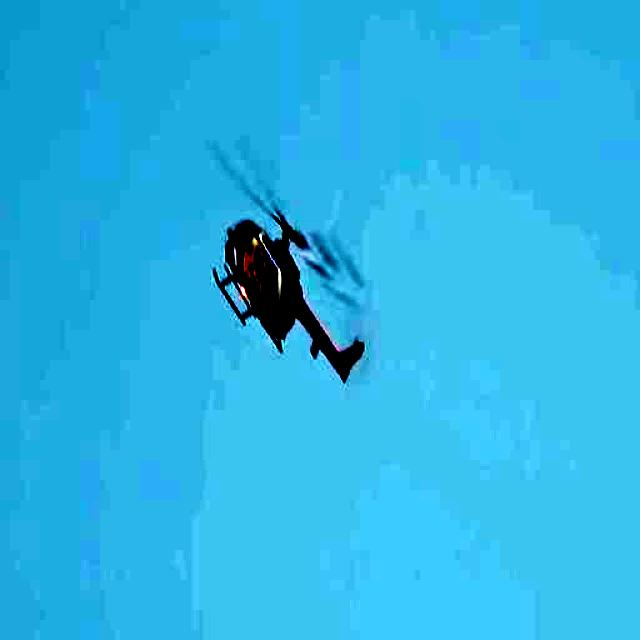drone: (202, 158, 376, 434)
